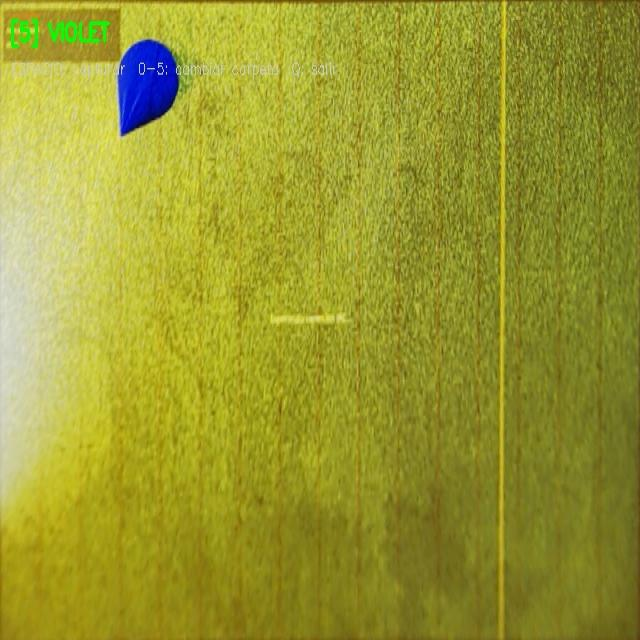violet: (118, 40, 178, 135)
